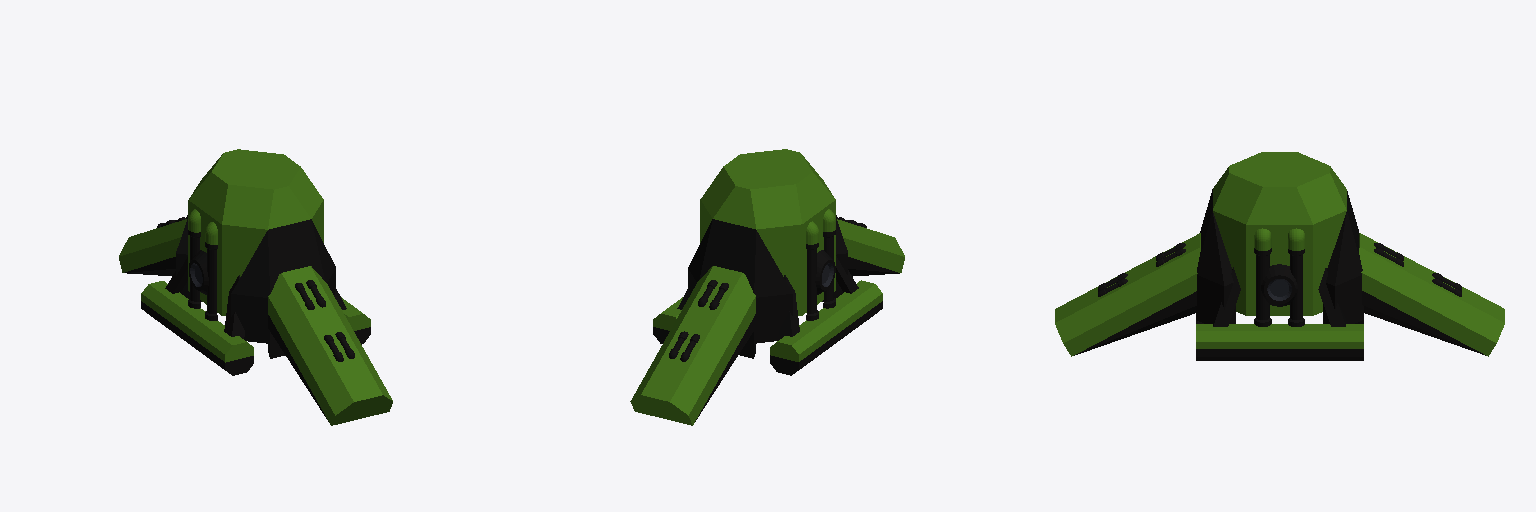
File: GreebusFoot.obj
3 renders of one model, left to right at view 1: azimuth 30°, elevation 25°; view 2: azimuth 150°, elevation 25°; view 3: azimuth 270°, elevation 25°, orthographic.
Visible parts, largest first — view 1: mergedBlocks; view 2: mergedBlocks; view 3: mergedBlocks.
Part boxes in pixels (bbox=[...]): mergedBlocks: bbox=[119, 149, 392, 425]; mergedBlocks: bbox=[630, 149, 904, 425]; mergedBlocks: bbox=[1055, 152, 1504, 360].
Size of the model in its own units: 1 by 1.14 by 2.68.